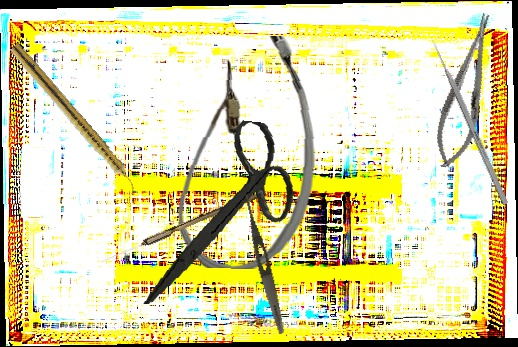Cannula: (174, 32, 320, 272)
Dressing Forceps: (236, 185, 289, 336)
Handpiece: (6, 42, 143, 196)
Iris Scissors: (142, 110, 302, 321)
Needle Holder: (426, 9, 507, 173)
Pusher: (427, 33, 510, 206)
Surgical Spoon: (99, 186, 267, 267)
